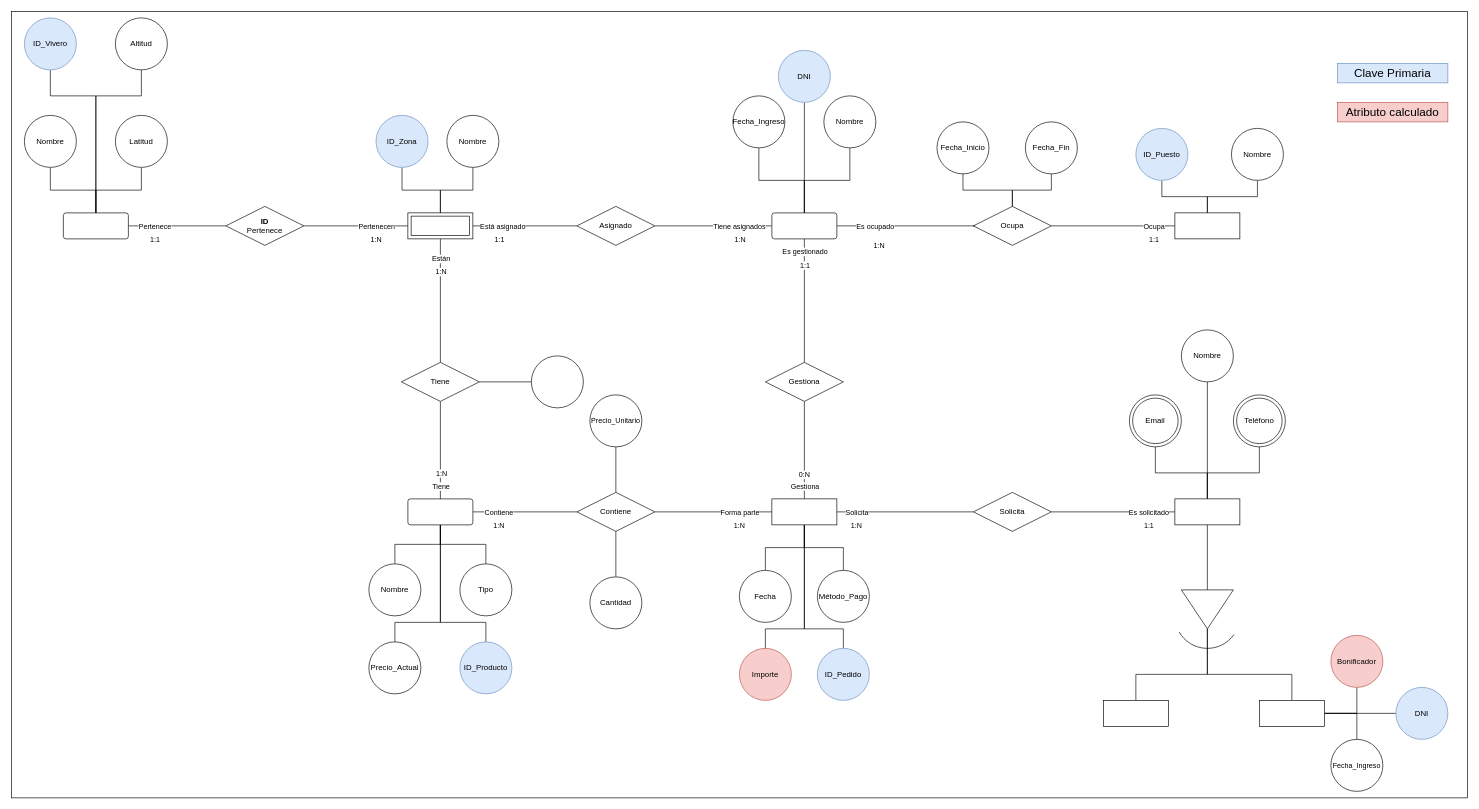
Image size: 1479x809. Some labels were removed from this diagram. Each missing label, with the centre of its shape:
"Cliente" goes at [1207,511].
"Cliente_Normal" goes at [1135,713].
"Cliente_Plus" goes at [1291,713].
"Empleado" goes at [804,225].
"Pedido" goes at [804,511].
"Producto" goes at [440,511].
"Puesto" goes at [1207,225].
"Stock" goes at [557,381].
"Vivero" goes at [95,225].
"Zona" goes at [440,225].
